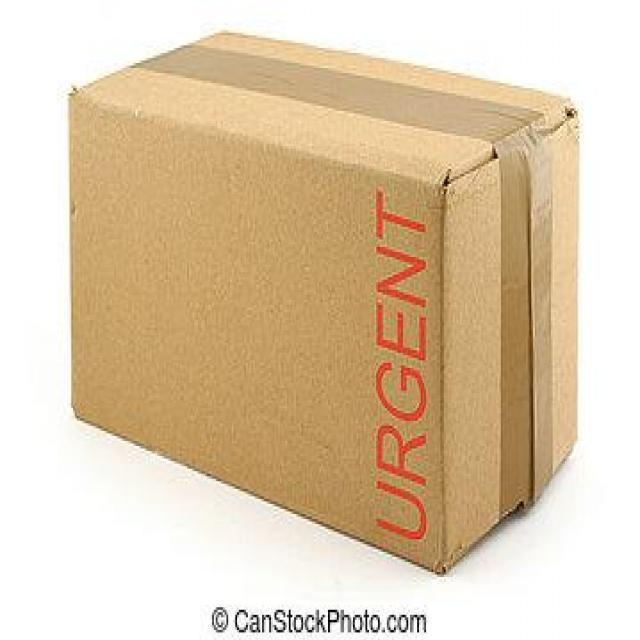box: (68, 22, 587, 571)
